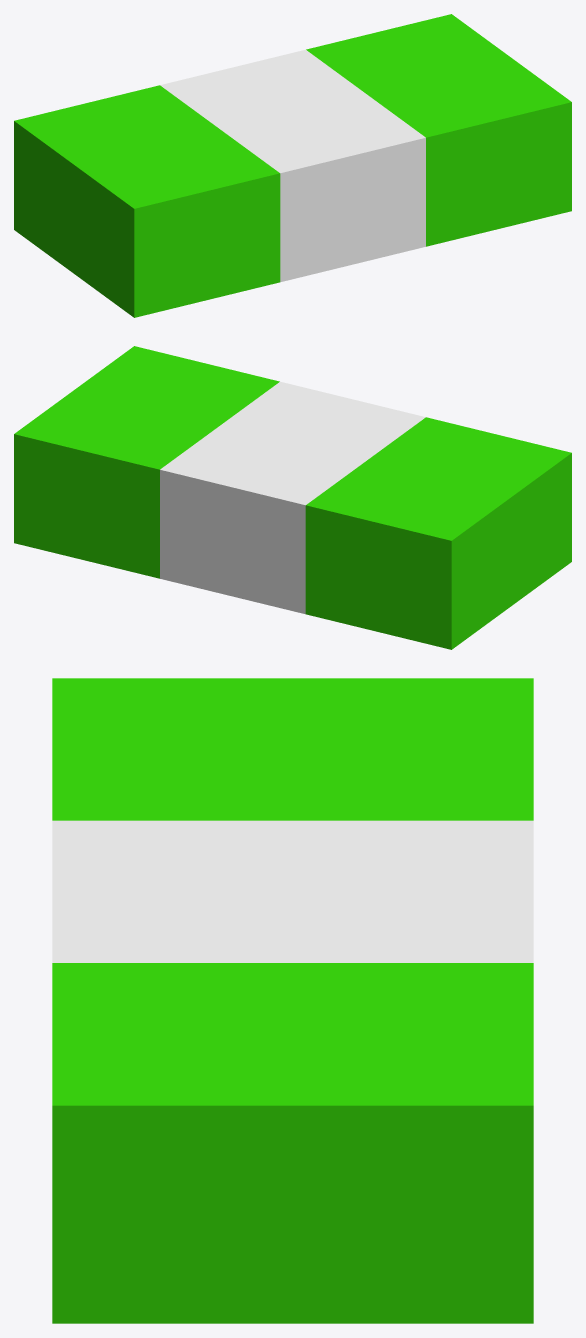
File: cash.fbx
3 views of the same model, one above another, from view 1: azimuth 30°, elevation 25°; view 2: azimuth 150°, elevation 25°; view 3: azimuth 270°, elevation 25° (orthographic). The views are drawn at different scales.
Visible parts, largest first — view 1: Cube; view 2: Cube; view 3: Cube.
Part boxes in pixels (x1,y1,x2,y2): Cube: [14, 14, 571, 317]; Cube: [14, 346, 571, 649]; Cube: [52, 678, 533, 1323].
Bounding box in the file's own units: 84 × 20 × 40.
